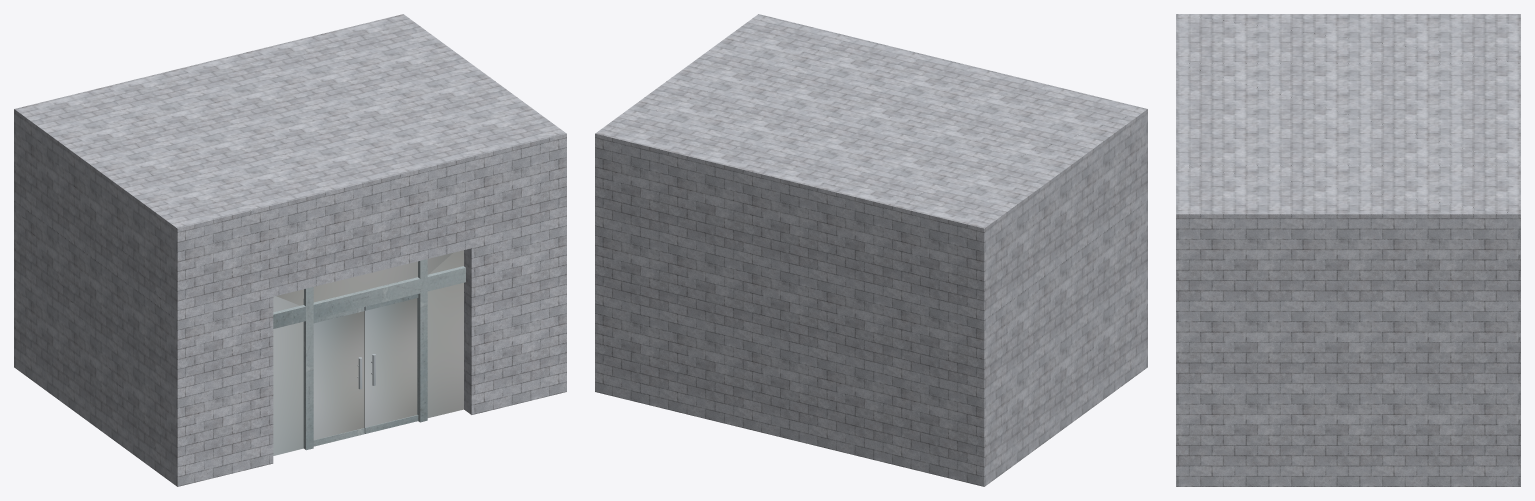
Rendered from EnterDoor_004.fbx.
3 renders of one model, left to right at view 1: azimuth 30°, elevation 25°; view 2: azimuth 150°, elevation 25°; view 3: azimuth 270°, elevation 25°, orthographic. The views are drawn at different scales.
Visible parts, largest first — view 1: EnterDoor_004; view 2: EnterDoor_004; view 3: EnterDoor_004.
Part boxes in pixels (left/top/right/bottom): EnterDoor_004: left=14, top=14, right=566, bottom=486; EnterDoor_004: left=595, top=14, right=1147, bottom=486; EnterDoor_004: left=1176, top=14, right=1520, bottom=486.
Bounding box in the file's own units: 521 × 331 × 379.
Materials: 2 (2 with a texture image).
